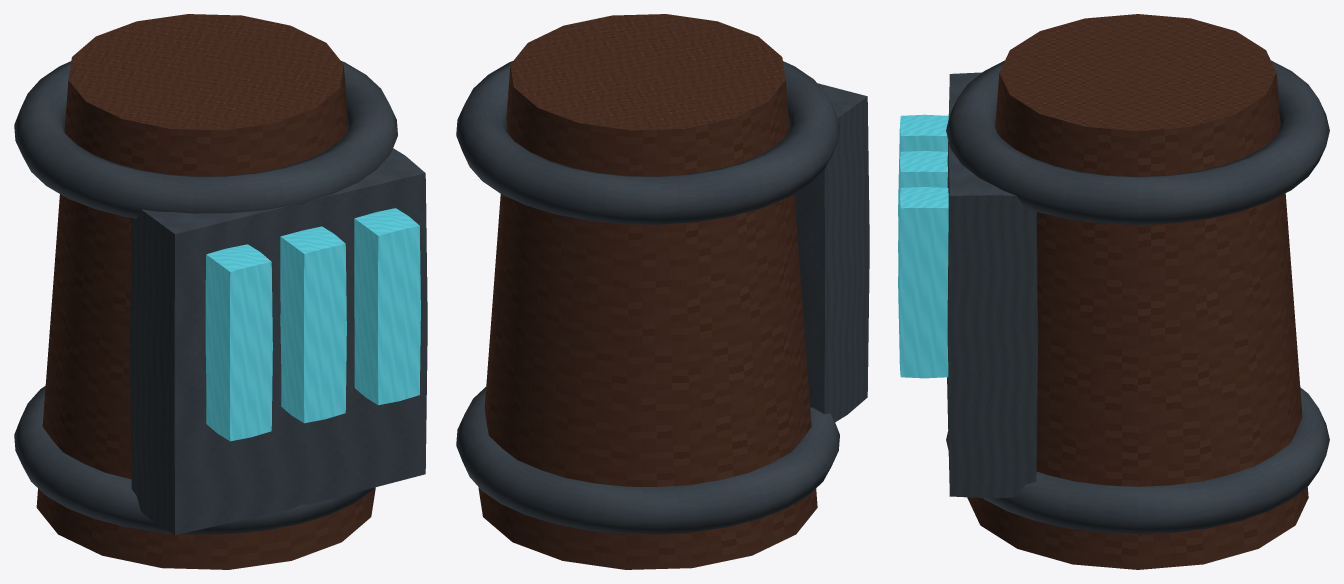
Rendered from wrist-emitter.lod1.glb.
3 views of the same model, side by side, from view 1: azimuth 30°, elevation 25°; view 2: azimuth 150°, elevation 25°; view 3: azimuth 270°, elevation 25° (orthographic).
Parts seen in each view (by area): view 1: leather.0, iron.3, iron.2, crystal.4, crystal.6, crystal.5, iron.1; view 2: leather.0, iron.2, iron.1, iron.3; view 3: leather.0, iron.3, iron.2, iron.1, crystal.6, crystal.5, crystal.4.
Part boxes in pixels (bbox=[...]): leather.0: bbox=[36, 14, 375, 569]; iron.3: bbox=[129, 148, 427, 535]; iron.2: bbox=[14, 61, 397, 218]; crystal.4: bbox=[205, 244, 272, 441]; crystal.6: bbox=[354, 208, 420, 405]; crystal.5: bbox=[280, 226, 346, 423]; iron.1: bbox=[14, 386, 374, 534]; leather.0: bbox=[478, 14, 817, 569]; iron.2: bbox=[456, 61, 839, 224]; iron.1: bbox=[456, 387, 839, 534]; iron.3: bbox=[794, 83, 869, 422]; leather.0: bbox=[967, 14, 1308, 569]; iron.3: bbox=[947, 72, 1038, 498]; iron.2: bbox=[946, 60, 1329, 224]; iron.1: bbox=[946, 387, 1329, 534]; crystal.6: bbox=[898, 187, 948, 378]; crystal.5: bbox=[898, 150, 947, 260]; crystal.4: bbox=[898, 114, 948, 224].
Bounding box in the file's own units: 0.18 × 0.22 × 0.2025.
Materials: 3 (3 with a texture image).
